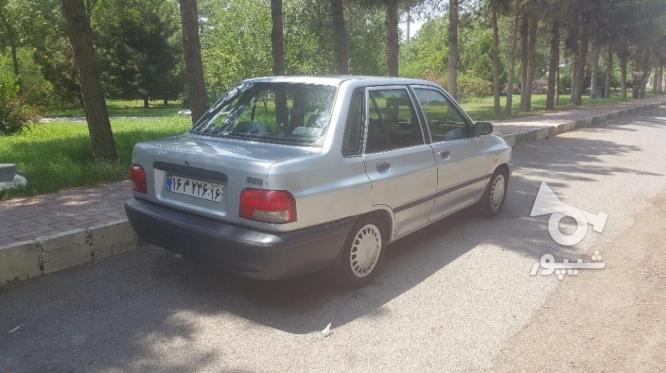car: (163, 171, 229, 202)
